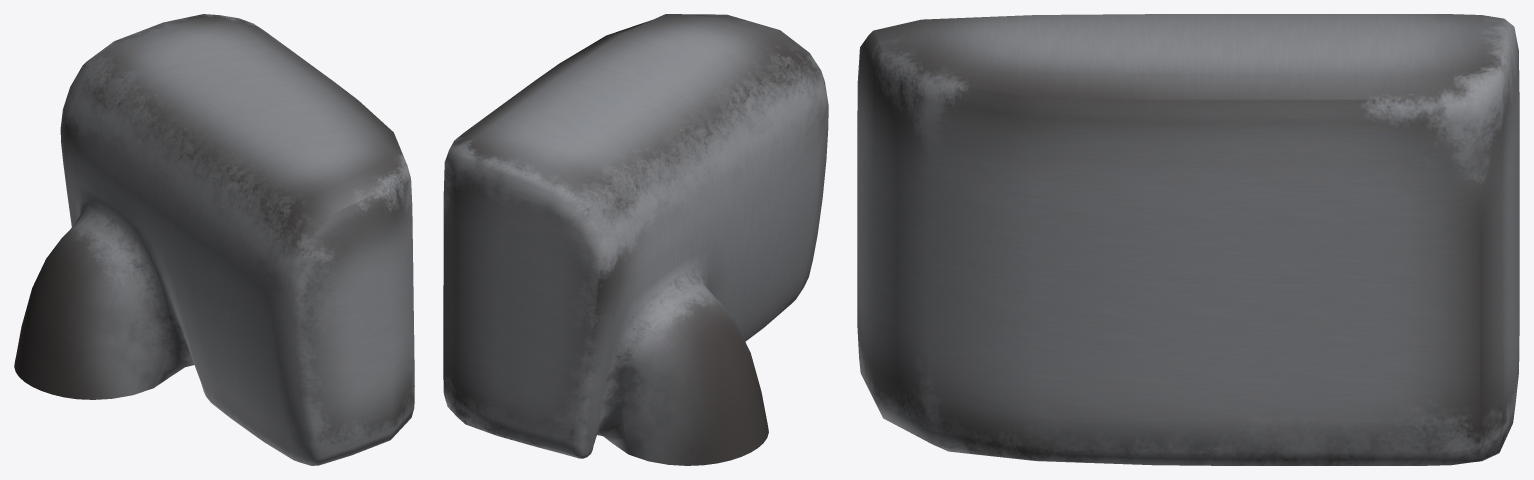
File: hand_dryer.gltf
3 views of the same model, side by side, from view 1: azimuth 30°, elevation 25°; view 2: azimuth 150°, elevation 25°; view 3: azimuth 270°, elevation 25° (orthographic). The views are drawn at different scales.
Parts seen in each view (by area): view 1: SM_handdryer_low; view 2: SM_handdryer_low; view 3: SM_handdryer_low.
Part boxes in pixels (x1=…): SM_handdryer_low: x1=14, y1=14, x2=414, y2=465; SM_handdryer_low: x1=443, y1=14, x2=828, y2=465; SM_handdryer_low: x1=857, y1=14, x2=1519, y2=465.
Size of the model in its own units: 36.71 by 35.84 by 54.44.
1 material, 1 textured.
